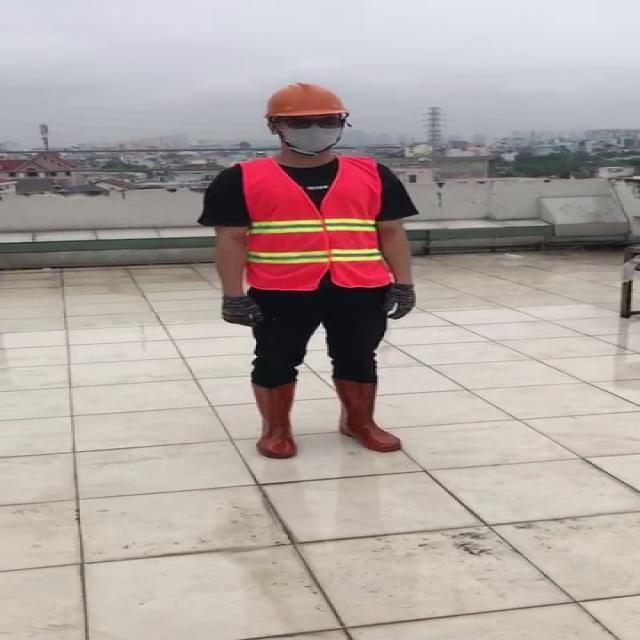boots: (332, 377, 408, 451), (249, 382, 299, 459)
gloves: (209, 284, 265, 339), (378, 272, 432, 320)
helmet: (262, 78, 350, 118)
helmet on: (259, 68, 382, 178)
person: (194, 78, 428, 464)
vest: (242, 158, 390, 286)
